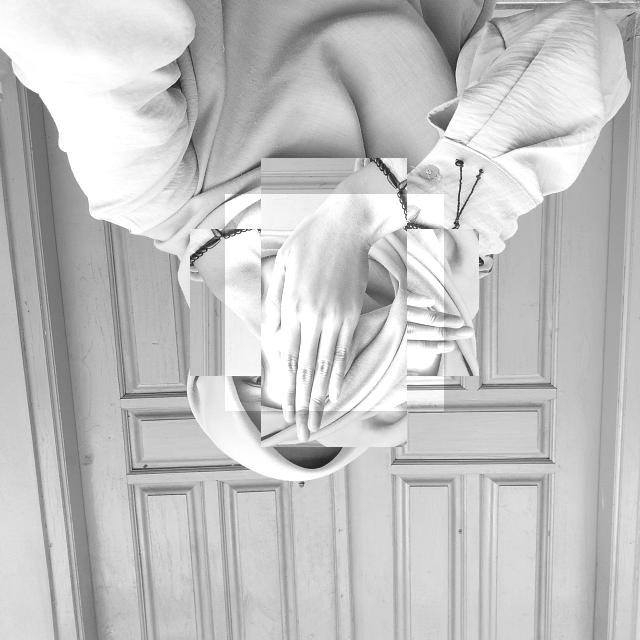buruk: (225, 194, 444, 411)
